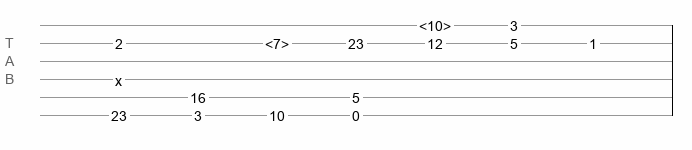0: (352, 108, 360, 118)
1: (589, 36, 597, 46)
10: (269, 108, 285, 118)
12: (427, 36, 443, 46)
16: (190, 90, 206, 100)
2: (115, 36, 123, 46)
23: (111, 108, 127, 118), (348, 36, 364, 46)
3: (194, 108, 202, 118), (510, 18, 518, 28)
5: (352, 90, 360, 100), (510, 36, 518, 46)
harmonic: (419, 18, 451, 28), (265, 36, 289, 46)
x: (115, 73, 122, 81)
